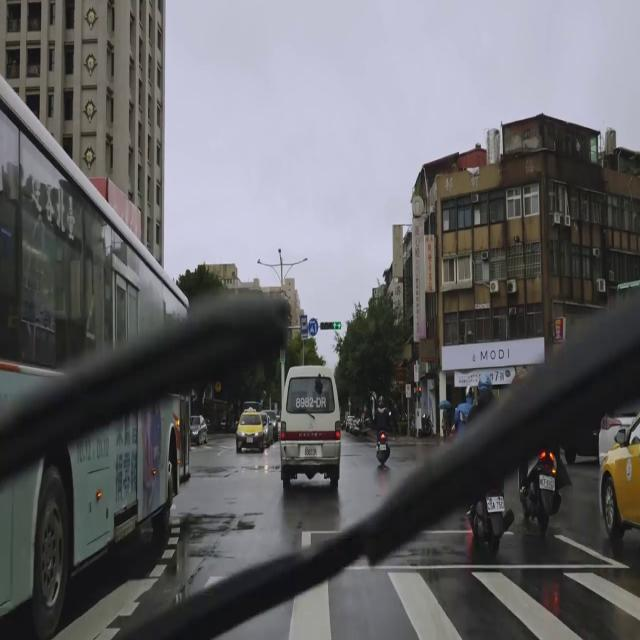green light: (320, 322, 341, 329)
